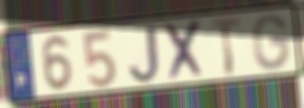5: (80, 26, 118, 90)
6: (40, 34, 75, 93)
G: (251, 12, 291, 73)
J: (127, 23, 162, 87)
T: (209, 15, 244, 78)
X: (162, 18, 207, 83)
